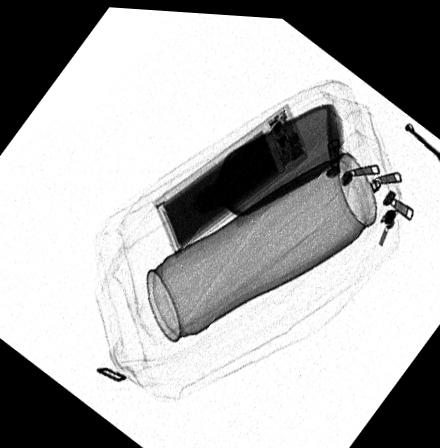Powerbank: (151, 98, 310, 254)
